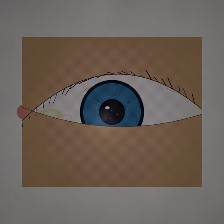pinguecula_lesion: (25, 95, 76, 135)
